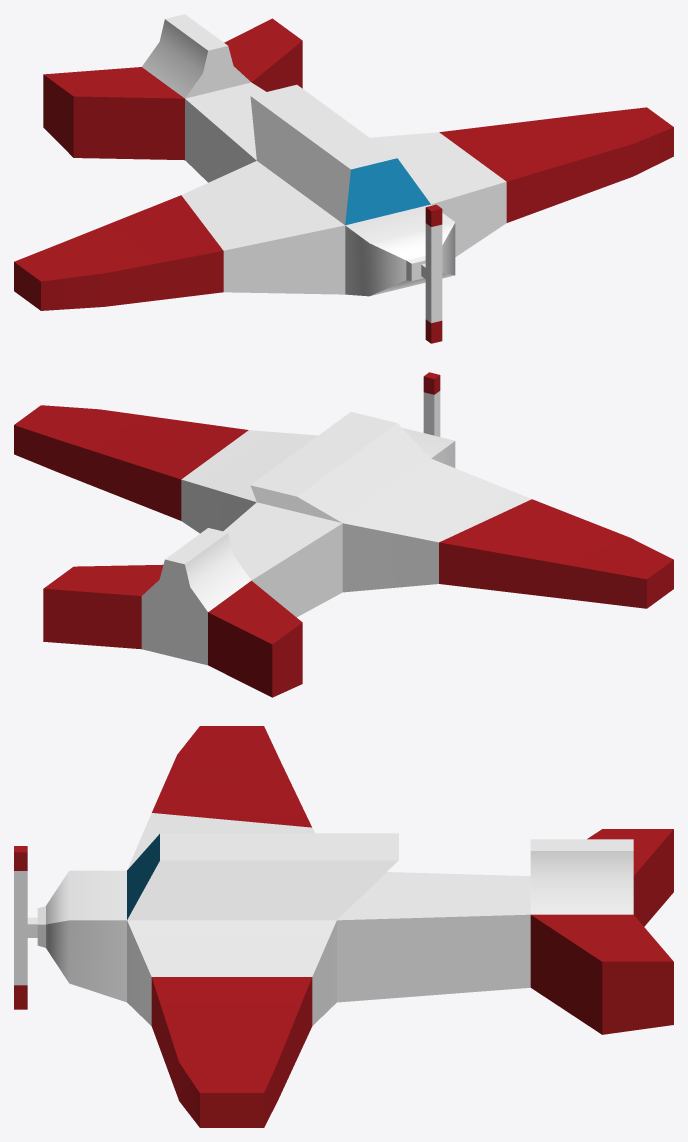
The model's file is FighterPlane2.fbx.
3 views of the same model, one above another, from view 1: azimuth 30°, elevation 25°; view 2: azimuth 150°, elevation 25°; view 3: azimuth 270°, elevation 25° (orthographic). The views are drawn at different scales.
Visible parts, largest first — view 1: FighterPlan2, Fan1; view 2: FighterPlan2, Fan1; view 3: FighterPlan2, Fan1.
Boxes of the visible parts, box(x1,y1,x2,y2) form: FighterPlan2: box(14, 14, 673, 310); Fan1: box(421, 204, 442, 343); FighterPlan2: box(14, 405, 673, 697); Fan1: box(423, 372, 440, 436); FighterPlan2: box(37, 726, 673, 1127); Fan1: box(14, 846, 37, 1009).
Size of the model in its own units: 16.4 by 3.35 by 12.47.
